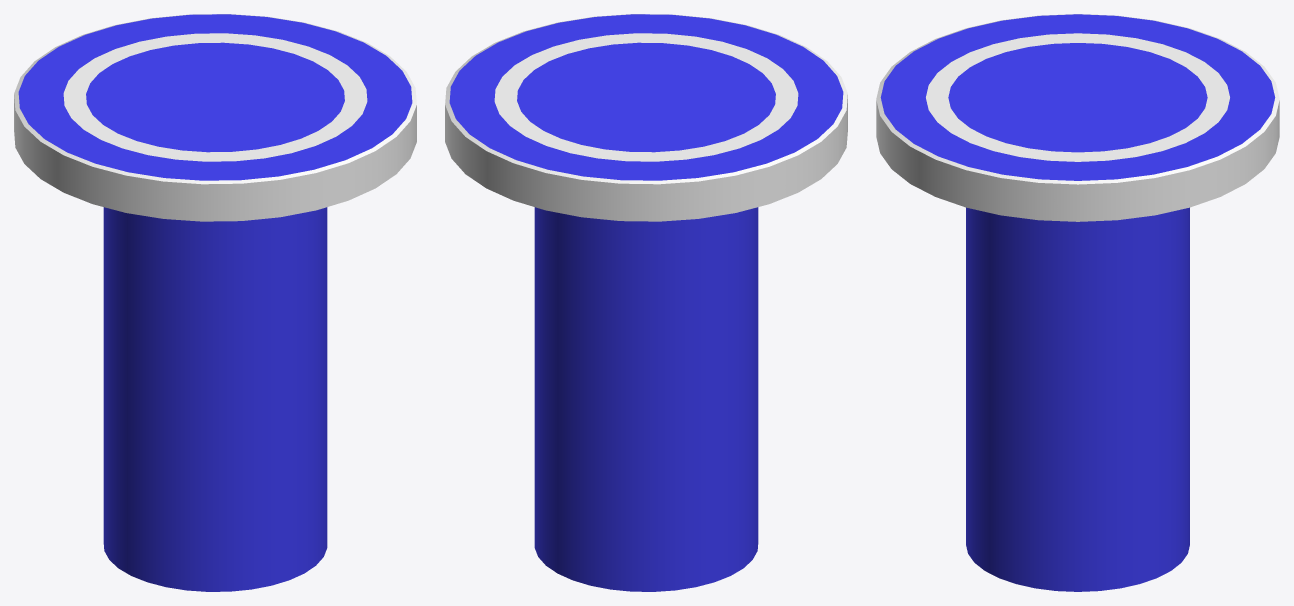
Rendered from o_short.fbx.
The picture shows the model from 3 angles, left to right: view 1: azimuth 30°, elevation 25°; view 2: azimuth 150°, elevation 25°; view 3: azimuth 270°, elevation 25°; orthographic projection.
Parts seen in each view (by area): view 1: O-pipe-short, Cylinder.005; view 2: O-pipe-short, Cylinder.005; view 3: O-pipe-short, Cylinder.005.
Part boxes in pixels (box(x1,y1,x2,y2)): O-pipe-short: box(103, 207, 327, 591); Cylinder.005: box(14, 14, 416, 221); O-pipe-short: box(534, 207, 758, 591); Cylinder.005: box(445, 14, 847, 221); O-pipe-short: box(966, 207, 1189, 591); Cylinder.005: box(876, 14, 1279, 221).
Size of the model in its own units: 90 by 110 by 90.
